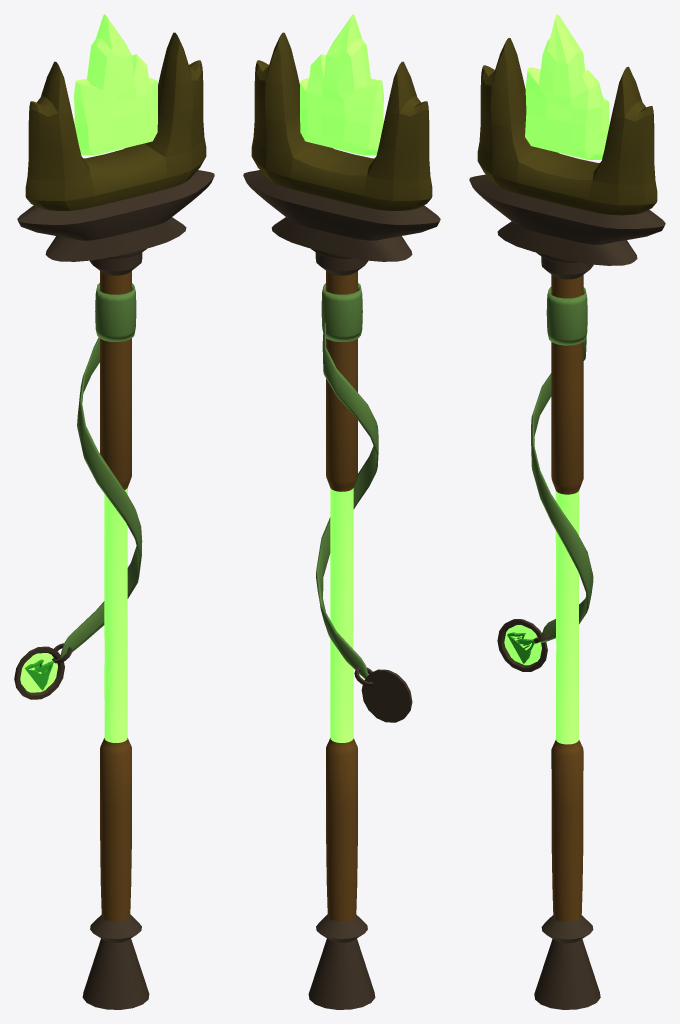
File: Earth staff.fbx
3 views of the same model, side by side, from view 1: azimuth 30°, elevation 25°; view 2: azimuth 150°, elevation 25°; view 3: azimuth 330°, elevation 25° (orthographic).
Visible parts, largest first — view 1: Earth staff top, Earth staff, Earth staff crystal, Earth_Ribbon 2, Earth_Ribbon, keychain_earth, Earth icon.003; view 2: Earth staff top, Earth staff, Earth staff crystal, Earth_Ribbon 2, keychain_earth, Earth_Ribbon; view 3: Earth staff top, Earth staff, Earth staff crystal, Earth_Ribbon 2, Earth_Ribbon, keychain_earth.
Boxes of the visible parts, x1,y1,x2,y2 form: Earth staff top: [17, 32, 214, 261]; Earth staff: [82, 248, 149, 1009]; Earth staff crystal: [74, 14, 157, 155]; Earth_Ribbon 2: [60, 337, 142, 658]; Earth_Ribbon: [95, 283, 136, 341]; keychain_earth: [14, 643, 71, 699]; Earth icon.003: [25, 659, 53, 690]; Earth staff top: [243, 32, 440, 261]; Earth staff: [308, 248, 375, 1009]; Earth staff crystal: [300, 14, 383, 155]; Earth_Ribbon 2: [316, 322, 378, 678]; keychain_earth: [354, 667, 412, 722]; Earth_Ribbon: [321, 283, 362, 341]; Earth staff top: [469, 38, 665, 265]; Earth staff: [534, 252, 600, 1009]; Earth staff crystal: [525, 14, 609, 159]; Earth_Ribbon 2: [531, 336, 593, 642]; Earth_Ribbon: [546, 287, 587, 345]; keychain_earth: [497, 619, 549, 671].
Size of the model in its own units: 0.4789 by 2.3 by 0.1616.
